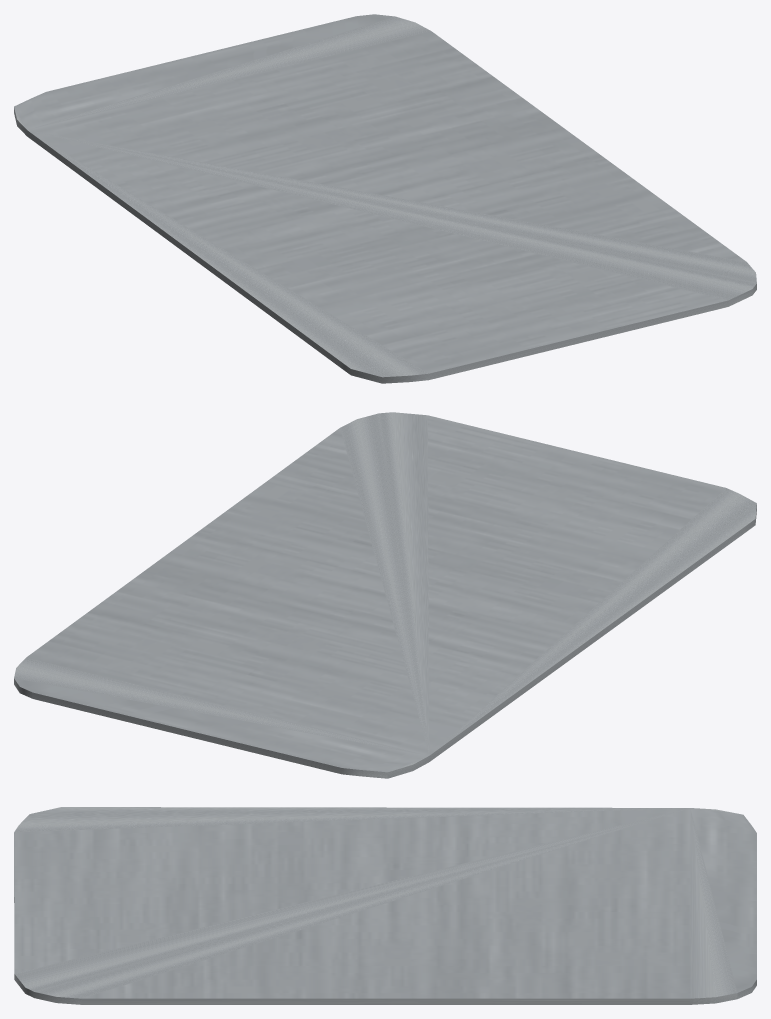
File: maintnence-celling.fbx
3 views of the same model, one above another, from view 1: azimuth 30°, elevation 25°; view 2: azimuth 150°, elevation 25°; view 3: azimuth 270°, elevation 25° (orthographic). The views are drawn at different scales.
Parts seen in each view (by area): view 1: base; view 2: base; view 3: base.
Boxes of the visible parts, x1,y1,x2,y2 form: base: (14,14,756,383); base: (14,412,756,778); base: (14,807,756,1004).
Size of the model in its own units: 58.58 by 1.44 by 95.96.
